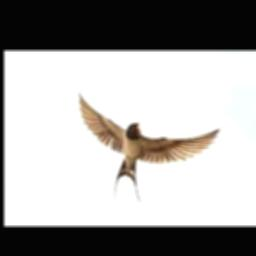Swallow: (77, 91, 219, 203)
